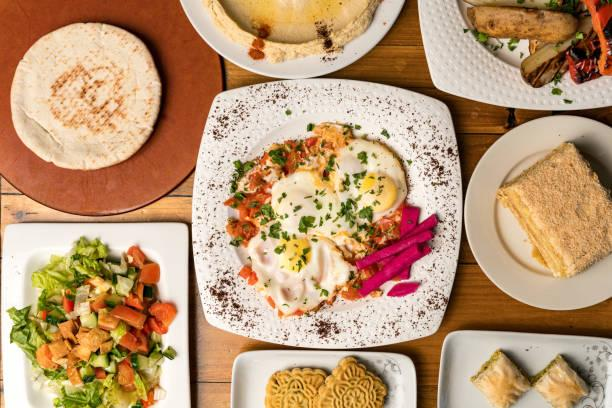Braised Crucian Carp: (190, 77, 457, 348), (0, 221, 193, 407), (462, 113, 612, 310)
